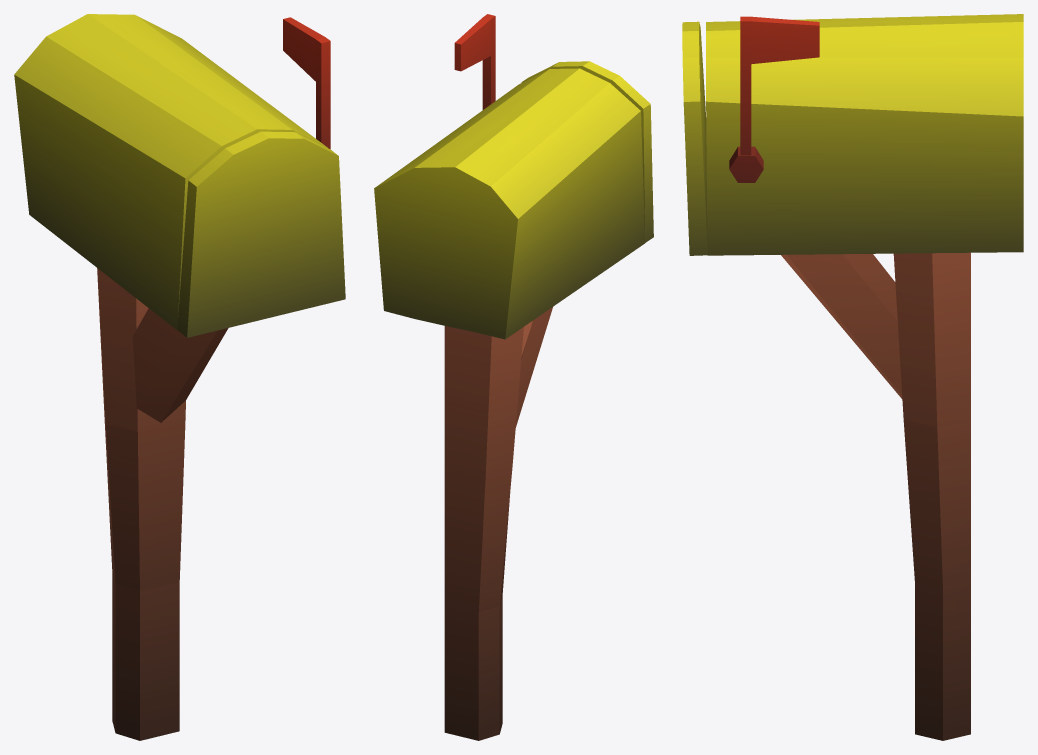
3 renders of one model, left to right at view 1: azimuth 30°, elevation 25°; view 2: azimuth 150°, elevation 25°; view 3: azimuth 270°, elevation 25°, orthographic. The views are drawn at different scales.
Parts seen in each view (by area): view 1: 8.001; view 2: 8.001; view 3: 8.001.
Part boxes in pixels (<box>): 8.001: <box>14,14,345,740</box>; 8.001: <box>374,14,653,740</box>; 8.001: <box>682,14,1023,740</box>.
Size of the model in its own units: 0.7957 by 3.16 by 1.31.
Materials: 1 (1 with a texture image).
